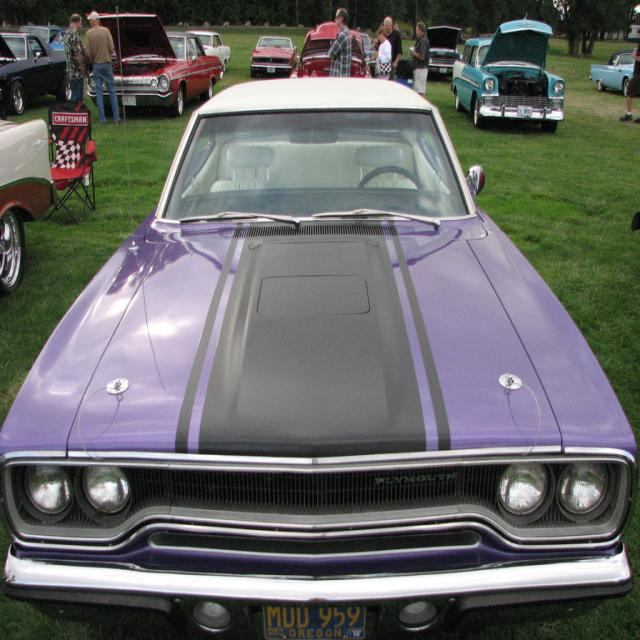car: (10, 44, 606, 625), (451, 9, 563, 125)
